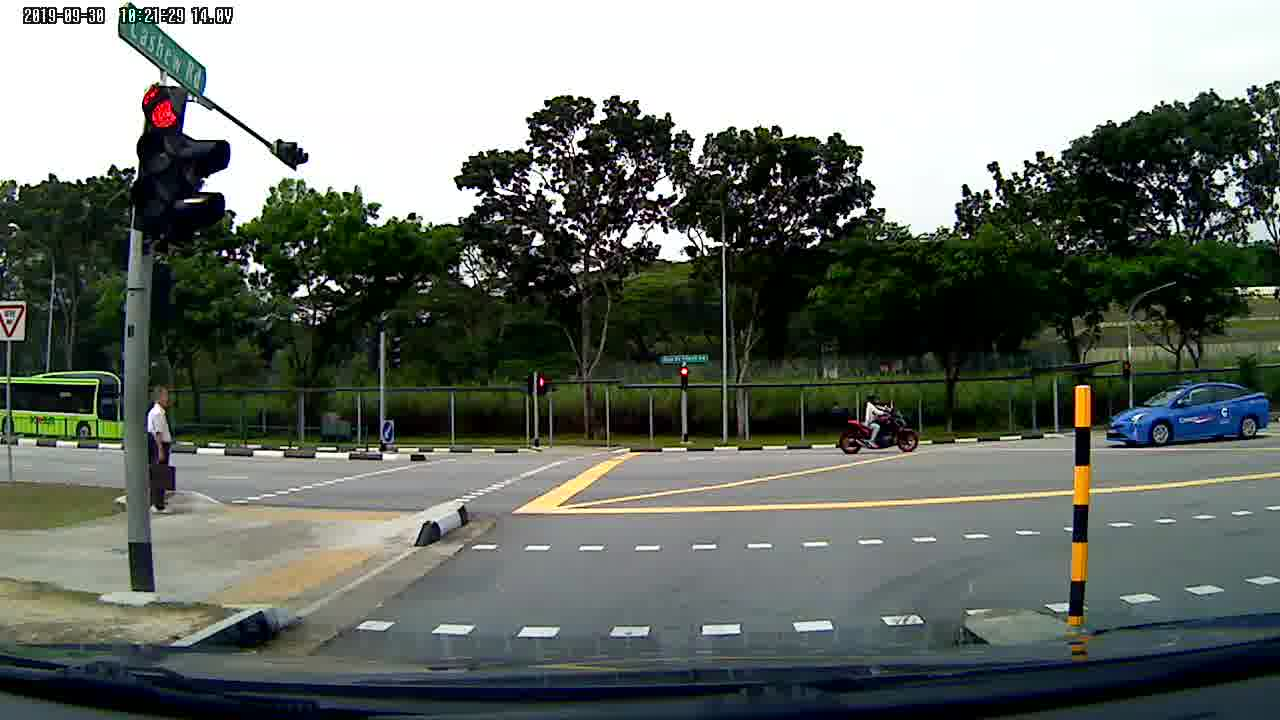bus: (1103, 379, 1274, 451), (1, 366, 125, 448)
car: (1103, 378, 1272, 449)
